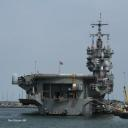Portanaves: (12, 12, 117, 119)
